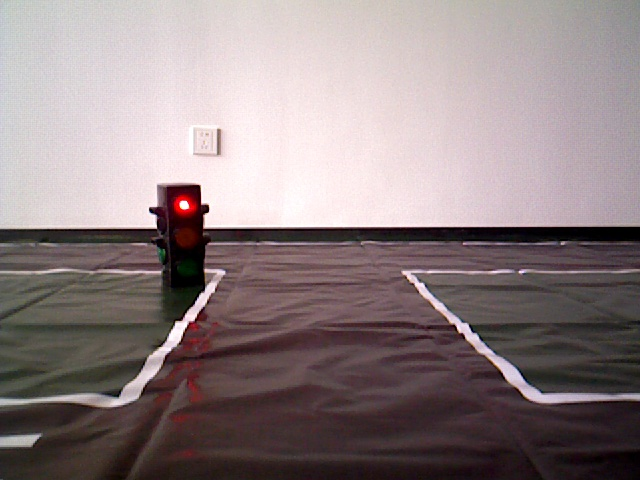red: (155, 189, 202, 288)
